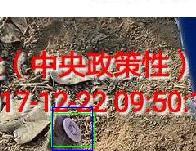text: (51, 113, 94, 146)
